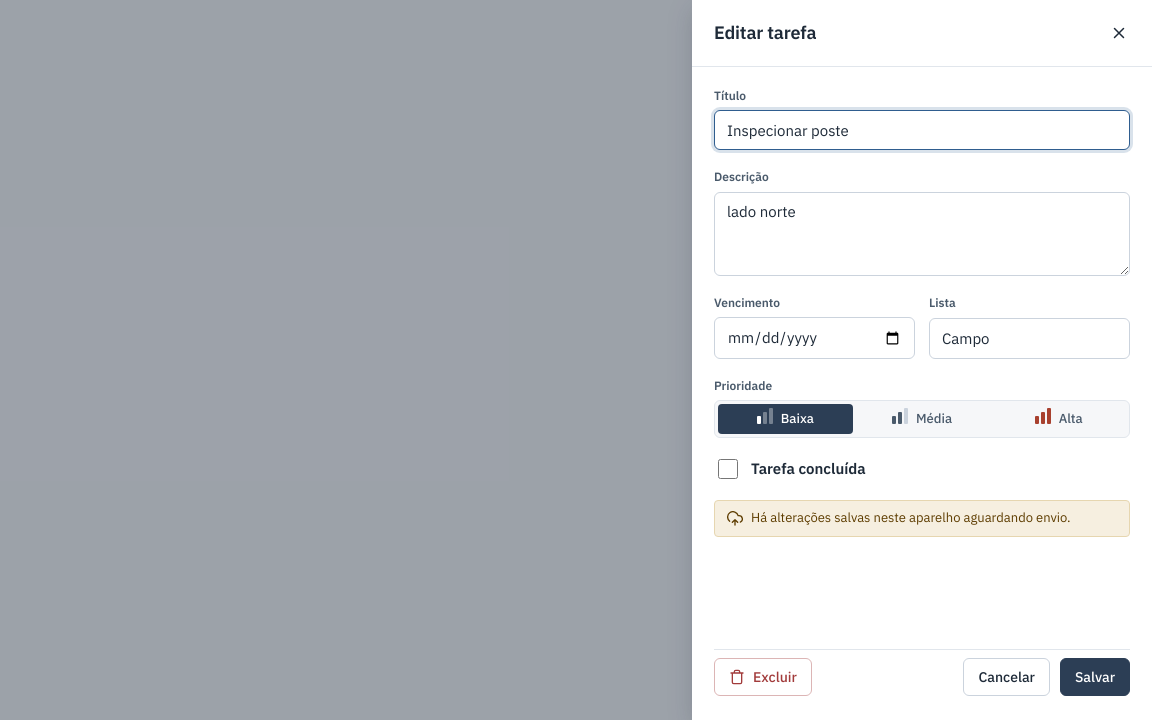
Scenario: TaskEditorComponent › digitar "urgente" mostra o aviso de que irá para o topo; apagar remove o aviso
Replace the text in the text box with id "ed-d" with "é URGENTE" at (922, 234), box left=714, top=192, right=1130, bottom=276
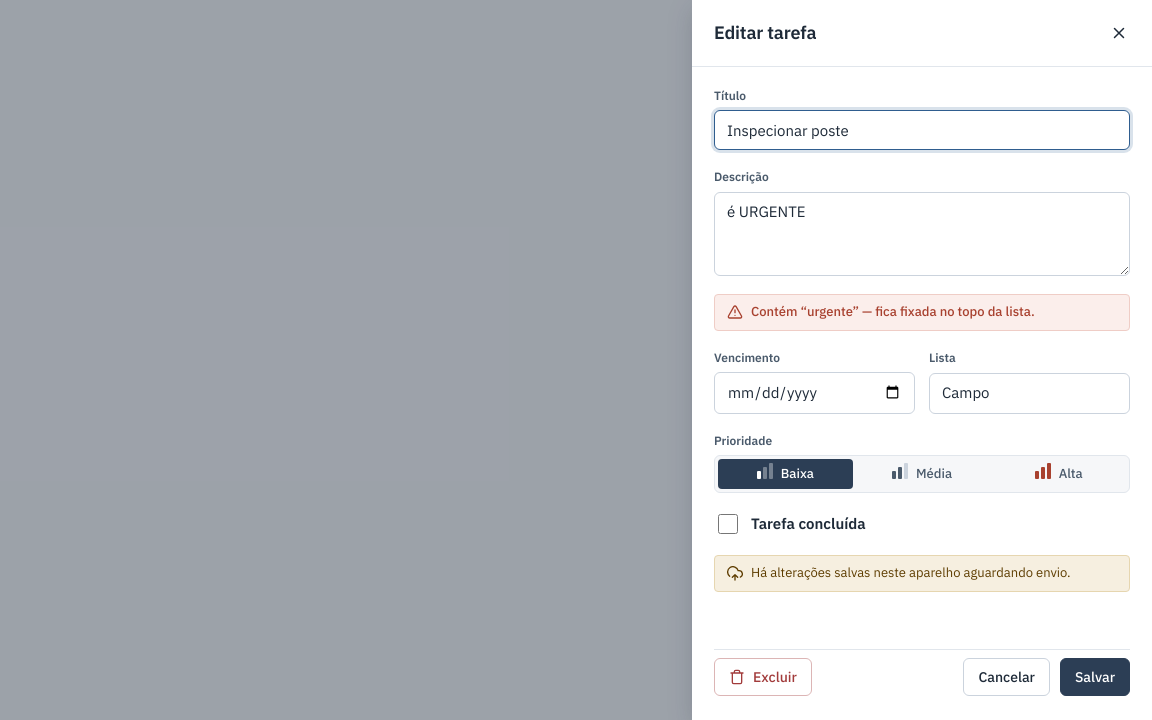
Replace the text in the text box with id "ed-d" with "normal" at (922, 234), box left=714, top=192, right=1130, bottom=276
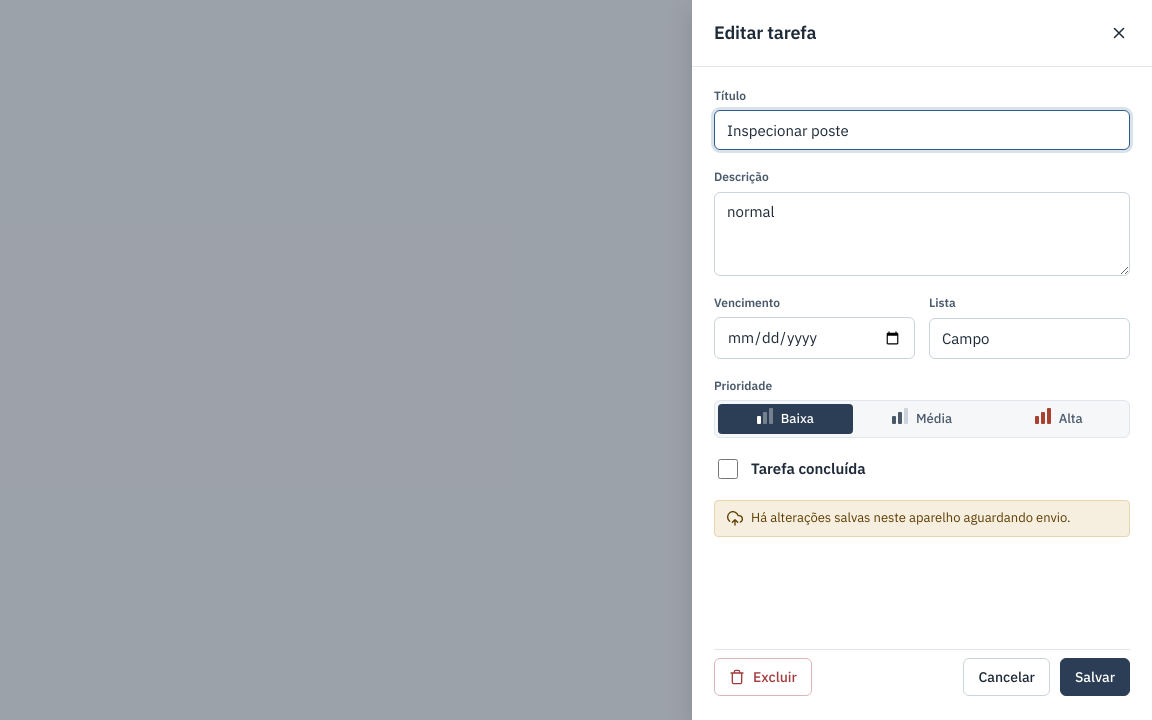
Result: the element with class "hint" is gone
